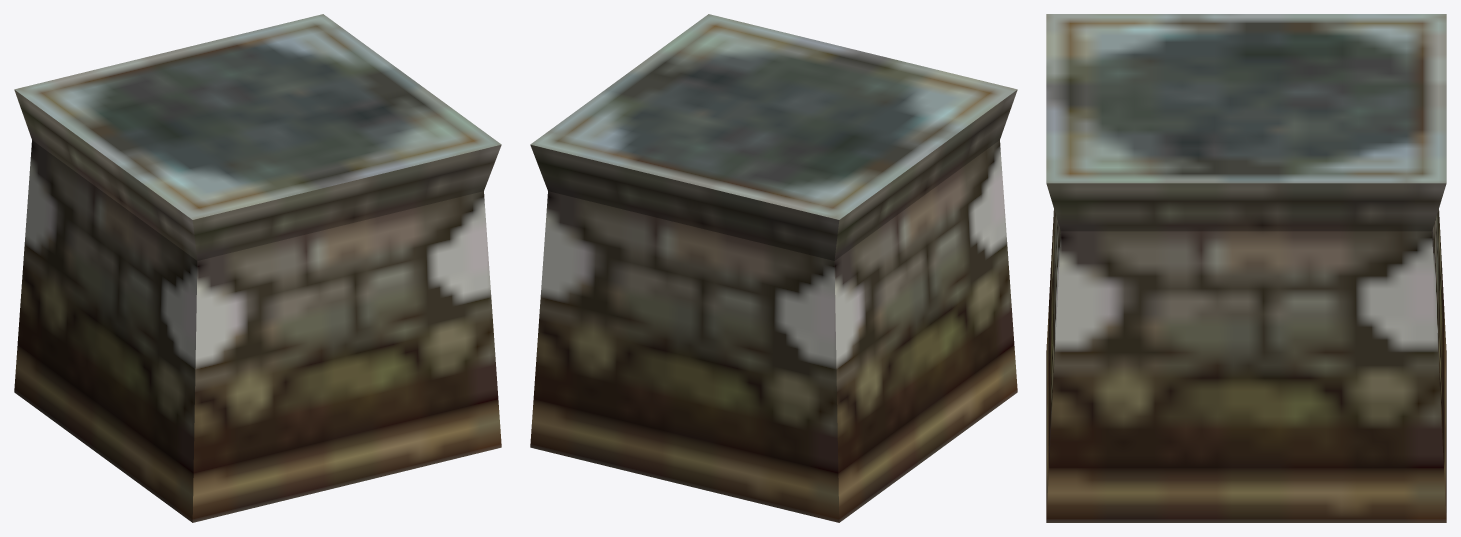
File: statue_x_oranos_base.glb
The picture shows the model from 3 angles, left to right: view 1: azimuth 30°, elevation 25°; view 2: azimuth 150°, elevation 25°; view 3: azimuth 270°, elevation 25°; orthographic projection. The views are drawn at different scales.
Parts seen in each view (by area): view 1: MeshRoot; view 2: MeshRoot; view 3: MeshRoot.
Boxes of the visible parts, bbox=[...] form: MeshRoot: bbox=[14, 14, 501, 522]; MeshRoot: bbox=[530, 14, 1017, 522]; MeshRoot: bbox=[1046, 14, 1446, 522].
Size of the model in its own units: 2.03 by 1.9 by 2.03.
Materials: 2 (2 with a texture image).
